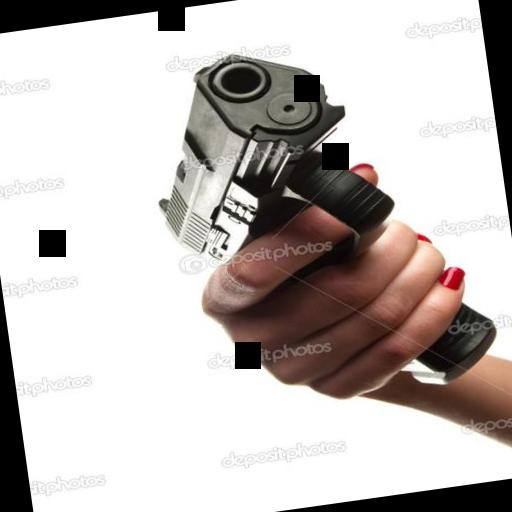Handgun: (128, 22, 500, 428)
